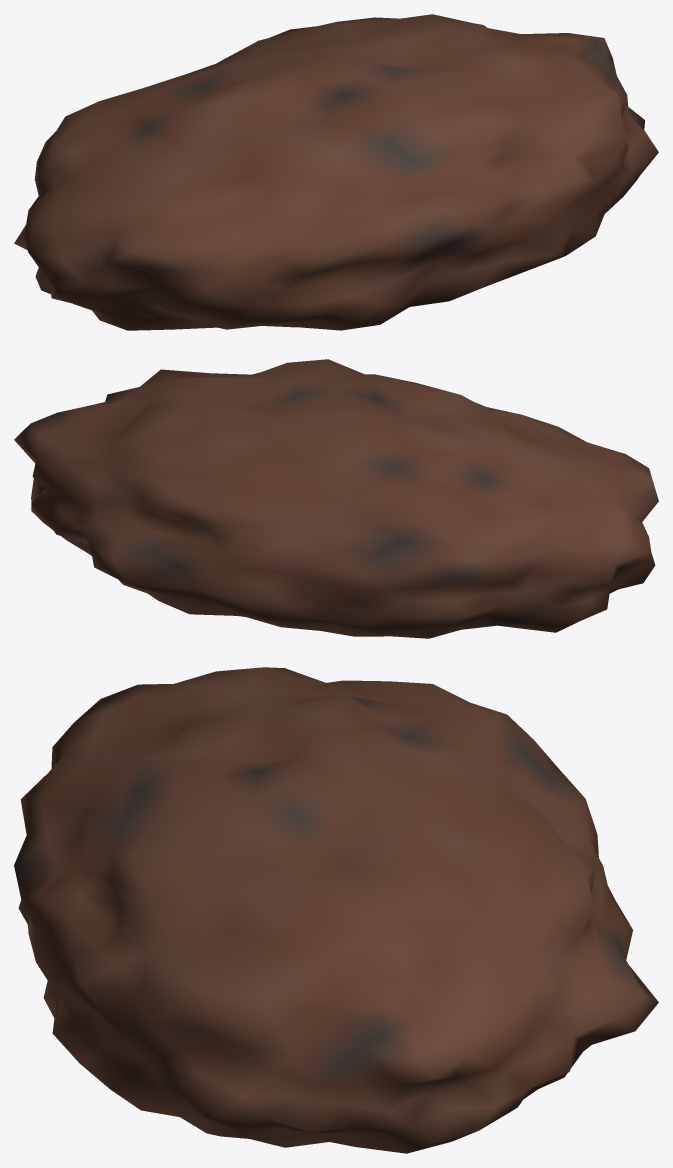
Rendered from burnt-wolf-meat.glb.
3 renders of one model, top to bottom at view 1: azimuth 30°, elevation 25°; view 2: azimuth 150°, elevation 25°; view 3: azimuth 270°, elevation 25°, orthographic. The views are drawn at different scales.
Parts seen in each view (by area): view 1: Body_lod0; view 2: Body_lod0; view 3: Body_lod0.
Boxes of the visible parts, x1,y1,x2,y2 form: Body_lod0: [14, 14, 658, 330]; Body_lod0: [14, 359, 658, 638]; Body_lod0: [14, 667, 658, 1153].
Size of what is drawn, in the model's own units: 0.1156 by 0.0299 by 0.0778.
